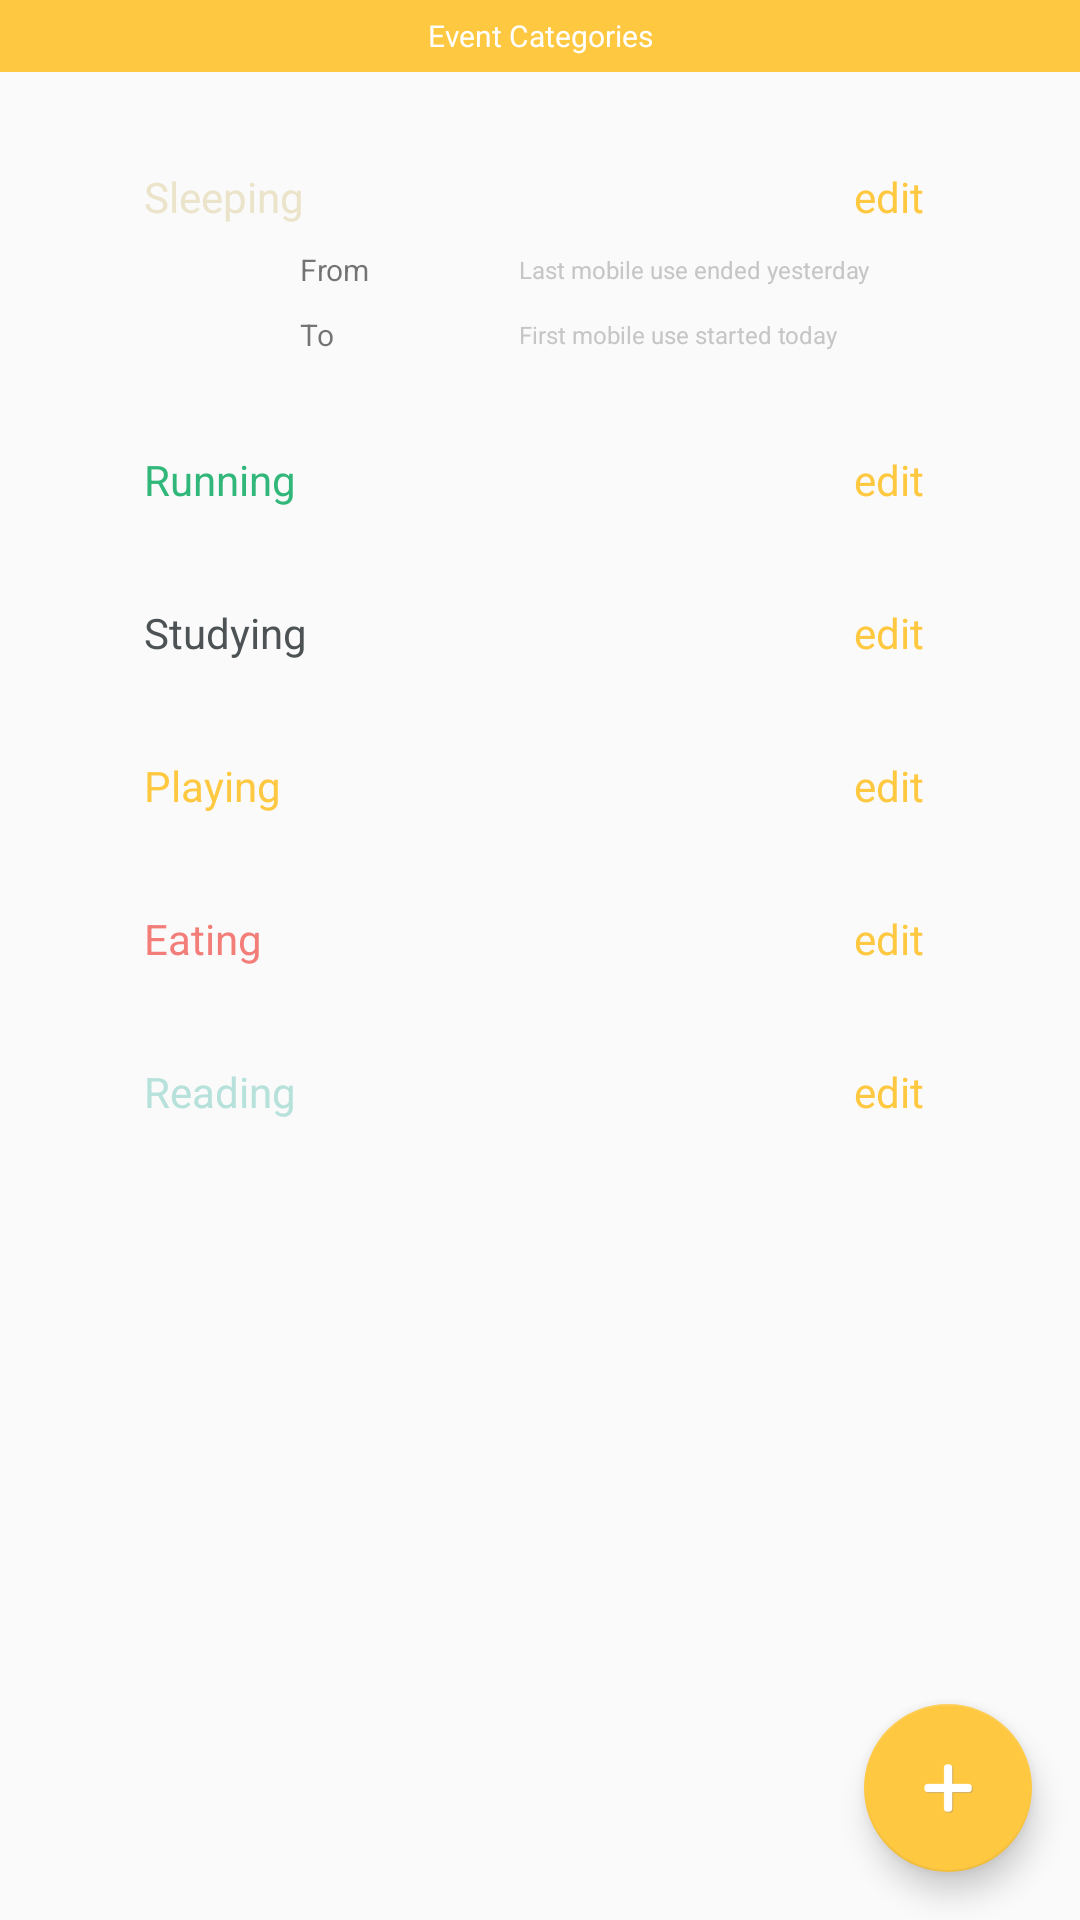

Screen size 1080w x 1920h. Icon name, then its center in pixels as (x=x, y=y):
add no: (x=948, y=1788)
